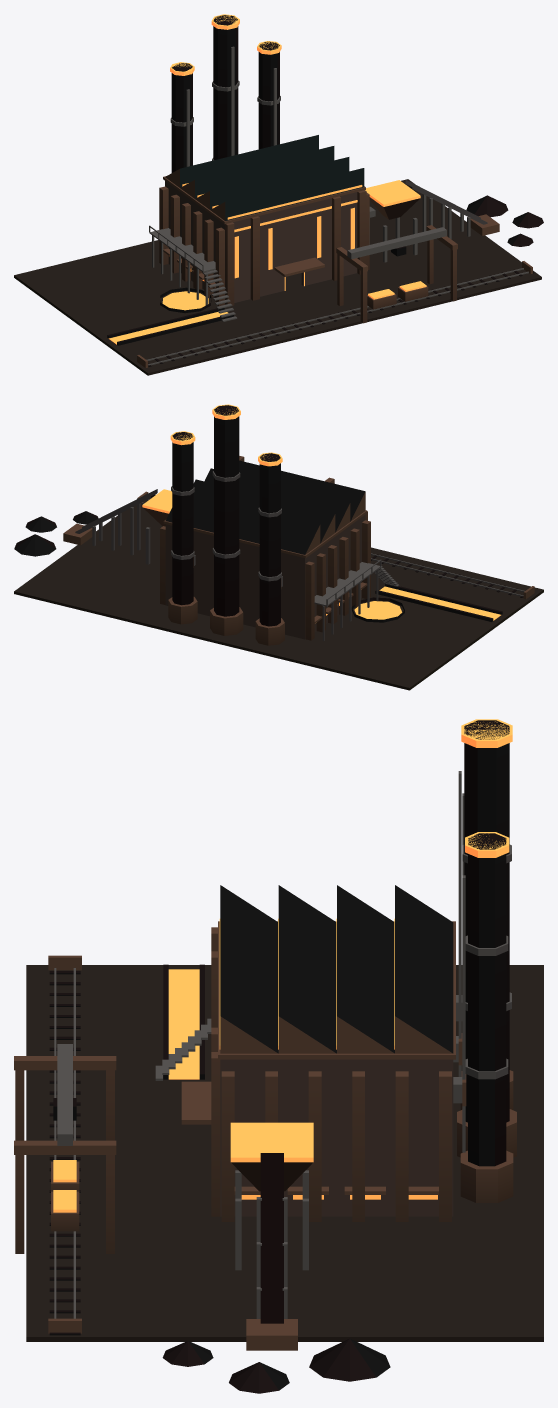
The model's file is shaddai_realm_landmarks_volcano_v01.glb.
The picture shows the model from 3 angles, top to bottom: view 1: azimuth 30°, elevation 25°; view 2: azimuth 150°, elevation 25°; view 3: azimuth 270°, elevation 25°; orthographic projection. The views are drawn at different scales.
Parts seen in each view (by area): view 1: shaddai_landmark_volcano_forge; view 2: shaddai_landmark_volcano_forge; view 3: shaddai_landmark_volcano_forge.
Part boxes in pixels (x1,y1,x2,y2): shaddai_landmark_volcano_forge: [14, 14, 543, 375]; shaddai_landmark_volcano_forge: [14, 404, 543, 690]; shaddai_landmark_volcano_forge: [14, 719, 543, 1393].
Size of the model in its own units: 78.4 by 36.3 by 40.95.
